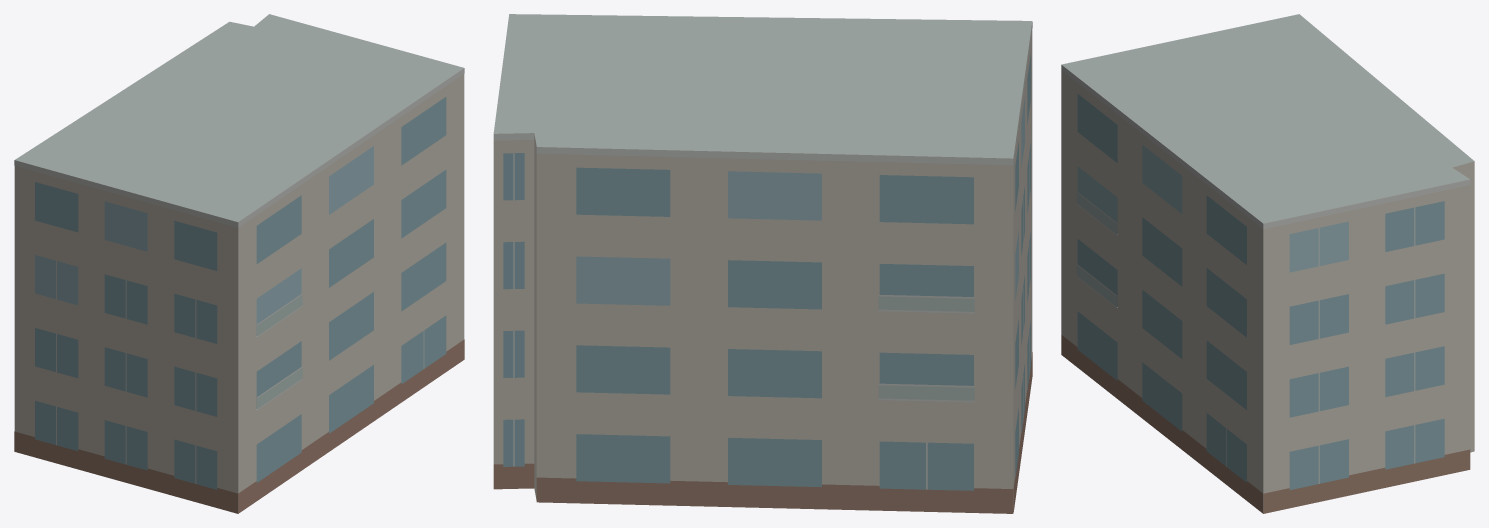
The model's file is survey-upis-32809882.glb.
The picture shows the model from 3 angles, left to right: view 1: azimuth 30°, elevation 25°; view 2: azimuth 150°, elevation 25°; view 3: azimuth 270°, elevation 25°; orthographic projection. The views are drawn at different scales.
Visible parts, largest first — view 1: survey-upis-32809882.tmp; view 2: survey-upis-32809882.tmp; view 3: survey-upis-32809882.tmp.
Boxes of the visible parts, x1,y1,x2,y2 form: survey-upis-32809882.tmp: [14, 14, 464, 513]; survey-upis-32809882.tmp: [493, 14, 1032, 513]; survey-upis-32809882.tmp: [1061, 14, 1474, 513].
Bounding box in the file's own units: 19.85 × 12.8 × 16.53.
